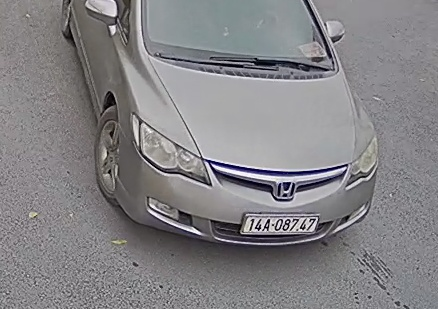vehicle plate: (240, 208, 317, 236)
